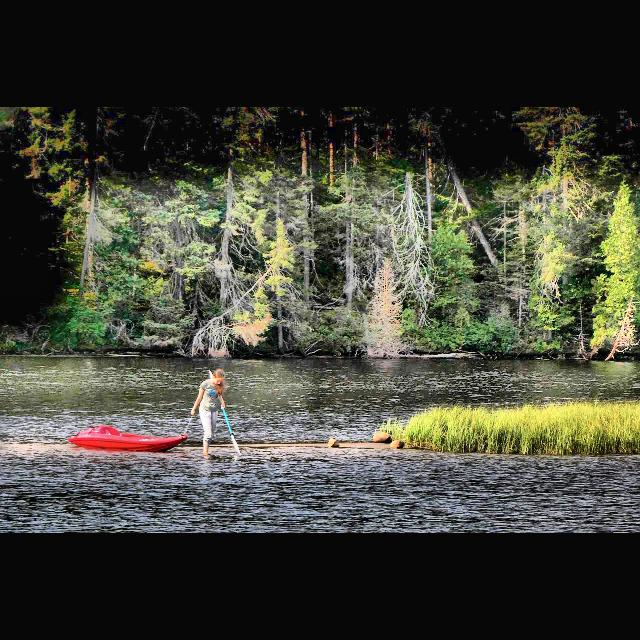kayak: (66, 426, 190, 454)
